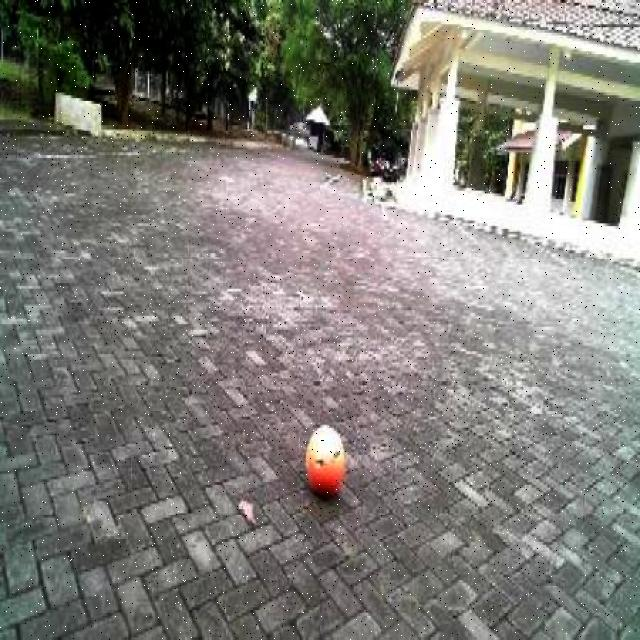buoy: (300, 414, 349, 502)
